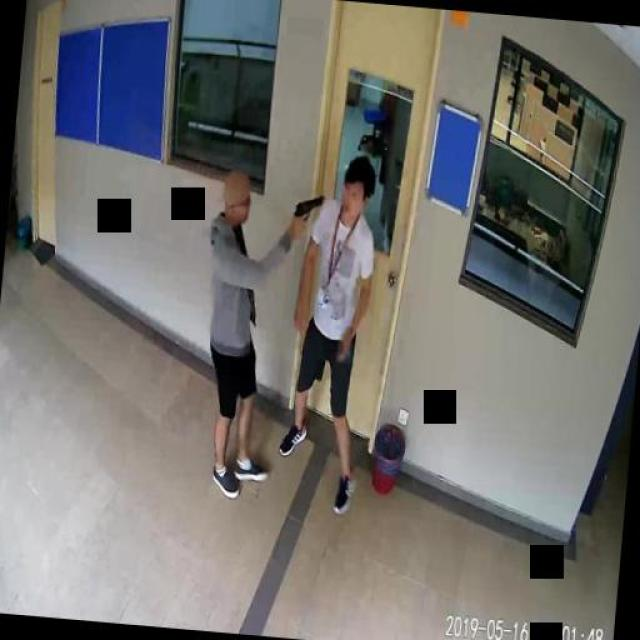gun: (289, 190, 325, 240)
